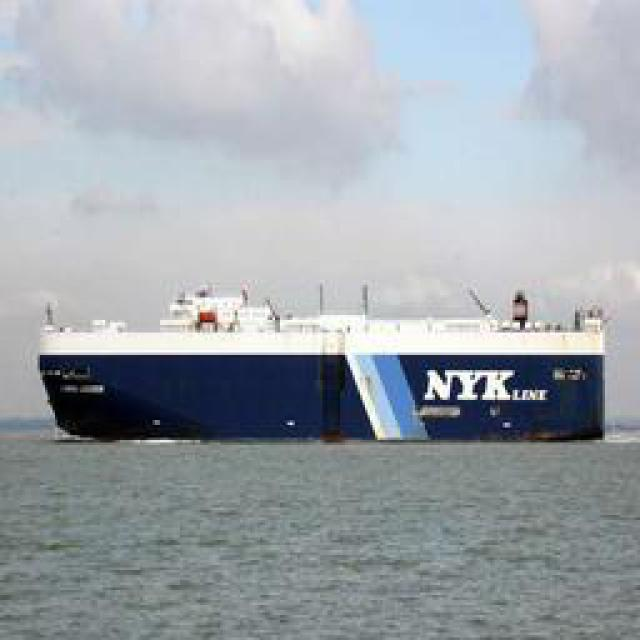Ship: (22, 271, 625, 449)
